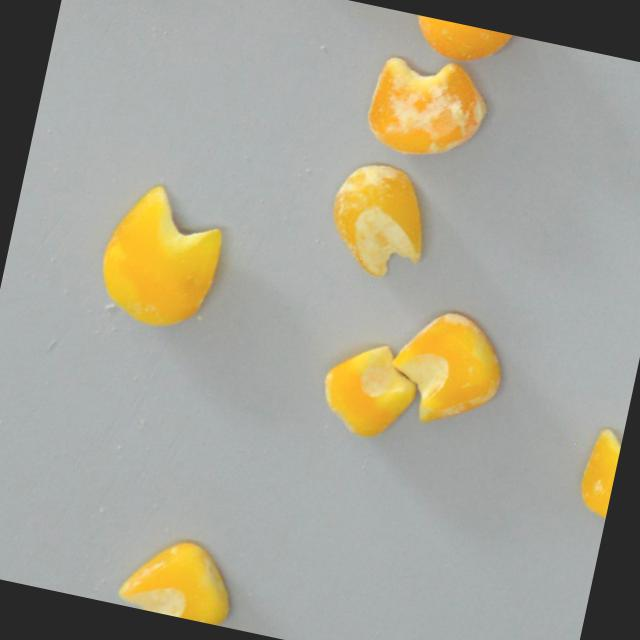no_canjicado: (91, 177, 231, 336), (572, 410, 627, 521)
pelicula: (380, 301, 514, 435), (359, 47, 495, 168), (319, 154, 436, 283), (115, 529, 244, 628), (312, 335, 421, 444), (407, 13, 516, 71)
